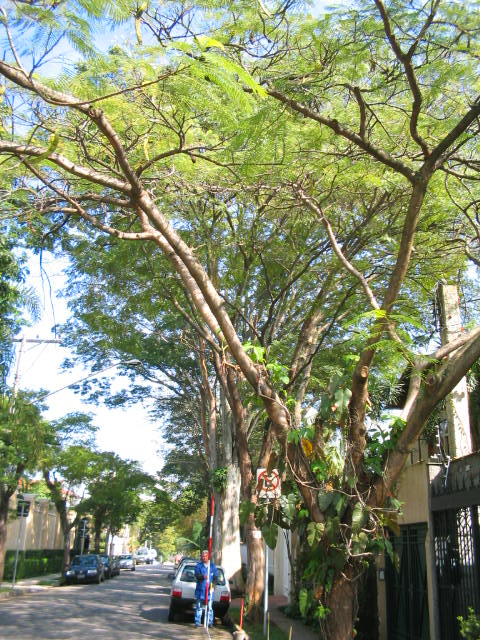stem: (294, 531, 387, 637), (237, 477, 280, 626), (53, 531, 75, 577)
stick: (201, 492, 220, 627)
tree: (41, 447, 130, 577)
